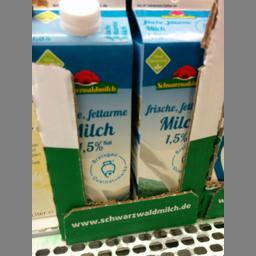milk: (30, 0, 132, 208), (130, 0, 209, 208)
